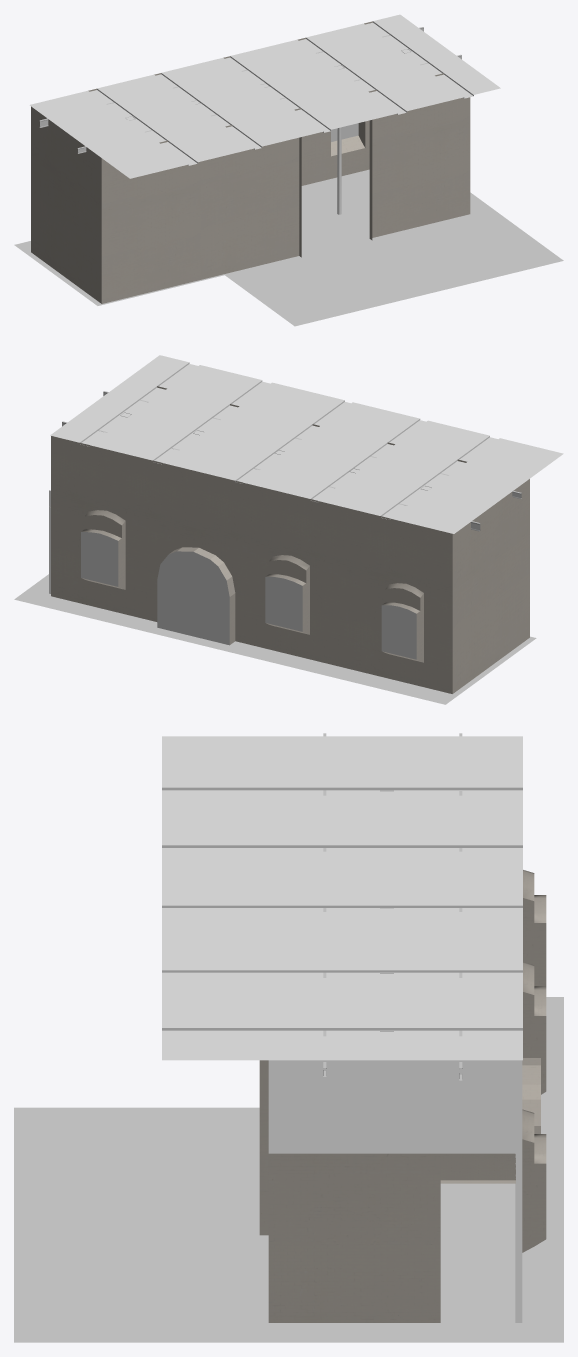
The model's file is Aspex_v2.fbx.
3 renders of one model, top to bottom at view 1: azimuth 30°, elevation 25°; view 2: azimuth 150°, elevation 25°; view 3: azimuth 270°, elevation 25°, orthographic. The views are drawn at different scales.
Visible parts, largest first — view 1: Roof, Plane.003, Plane.005, Plane.006, Plane.002, Pillar.003; view 2: Roof, Plane.002, Plane.007, Plane.003, Plane.005, Plane.006; view 3: Roof, Plane.005, Plane.003, Plane.006, Plane.002.
Boxes of the visible parts, x1,y1,x2,y2 form: Roof: [29, 14, 500, 178]; Plane.003: [31, 119, 470, 303]; Plane.005: [14, 169, 563, 326]; Plane.006: [31, 73, 470, 208]; Plane.002: [301, 120, 369, 185]; Pillar.003: [334, 65, 344, 214]; Roof: [50, 355, 563, 533]; Plane.002: [49, 490, 452, 693]; Plane.007: [51, 436, 452, 590]; Plane.003: [49, 506, 529, 693]; Plane.005: [14, 574, 536, 704]; Plane.006: [157, 386, 529, 590]; Roof: [162, 733, 522, 1080]; Plane.005: [14, 997, 563, 1342]; Plane.003: [259, 1092, 515, 1322]; Plane.006: [259, 1060, 522, 1153]; Plane.002: [515, 870, 546, 1322].
Size of the model in its own units: 1980 by 700 by 1322.
